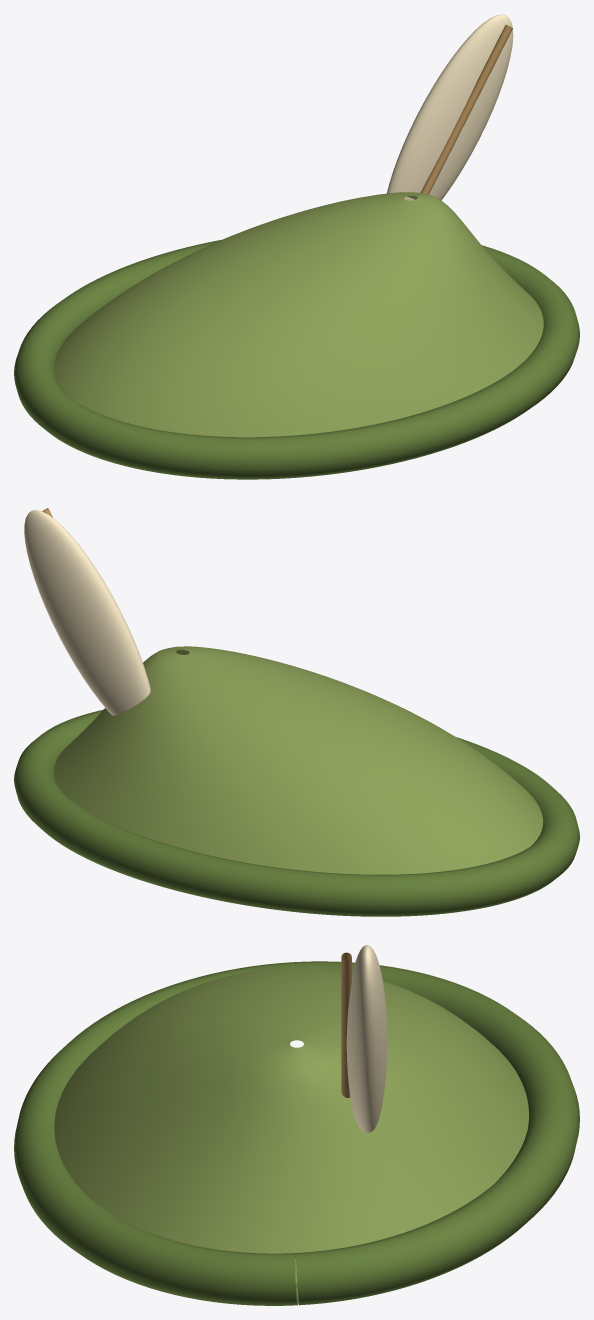
The model's file is woodsman-cap.glb.
The picture shows the model from 3 angles, top to bottom: view 1: azimuth 30°, elevation 25°; view 2: azimuth 150°, elevation 25°; view 3: azimuth 270°, elevation 25°; orthographic projection. The views are drawn at different scales.
Visible parts, largest first — view 1: cap_crown, cap_brim, cap_feather, cap_feather_shaft; view 2: cap_crown, cap_brim, cap_feather; view 3: cap_crown, cap_brim, cap_feather, cap_feather_shaft.
Part boxes in pixels (box(x1,y1,x2,y2)): cap_crown: box(54, 192, 543, 437); cap_brim: box(14, 240, 579, 479); cap_feather: box(387, 14, 513, 200); cap_feather_shaft: box(420, 25, 512, 194); cap_crown: box(54, 646, 543, 874); cap_brim: box(14, 710, 579, 916); cap_feather: box(24, 510, 150, 715); cap_crown: box(54, 968, 528, 1283); cap_brim: box(14, 961, 579, 1305); cap_feather: box(346, 945, 387, 1132); cap_feather_shaft: box(341, 952, 351, 1097).
Size of the model in its own units: 1.27 by 0.6839 by 0.9699.
